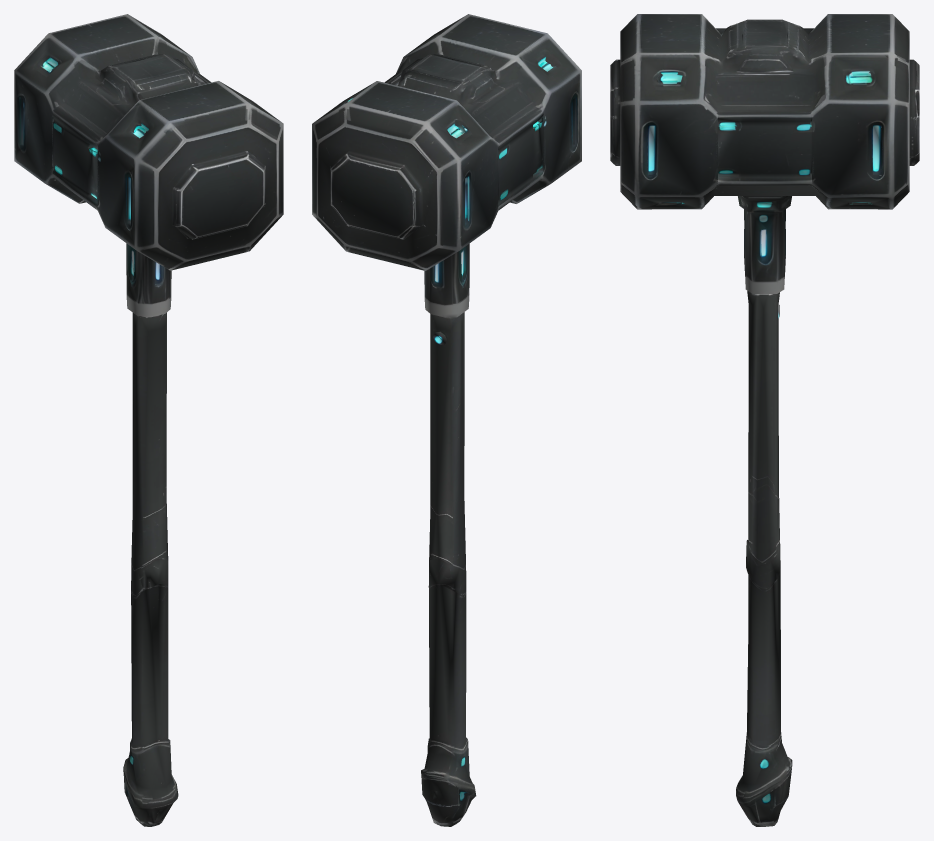
The model's file is battle_hawk.glb.
3 renders of one model, left to right at view 1: azimuth 30°, elevation 25°; view 2: azimuth 150°, elevation 25°; view 3: azimuth 270°, elevation 25°, orthographic. The views are drawn at different scales.
Parts seen in each view (by area): view 1: battle_hawk; view 2: battle_hawk; view 3: battle_hawk.
Boxes of the visible parts, x1,y1,x2,y2 form: battle_hawk: (14,14,283,826); battle_hawk: (312,14,581,826); battle_hawk: (610,14,919,826).
Size of the model in its own units: 0.3175 by 1.55 by 0.5504.
1 material, 1 textured.
